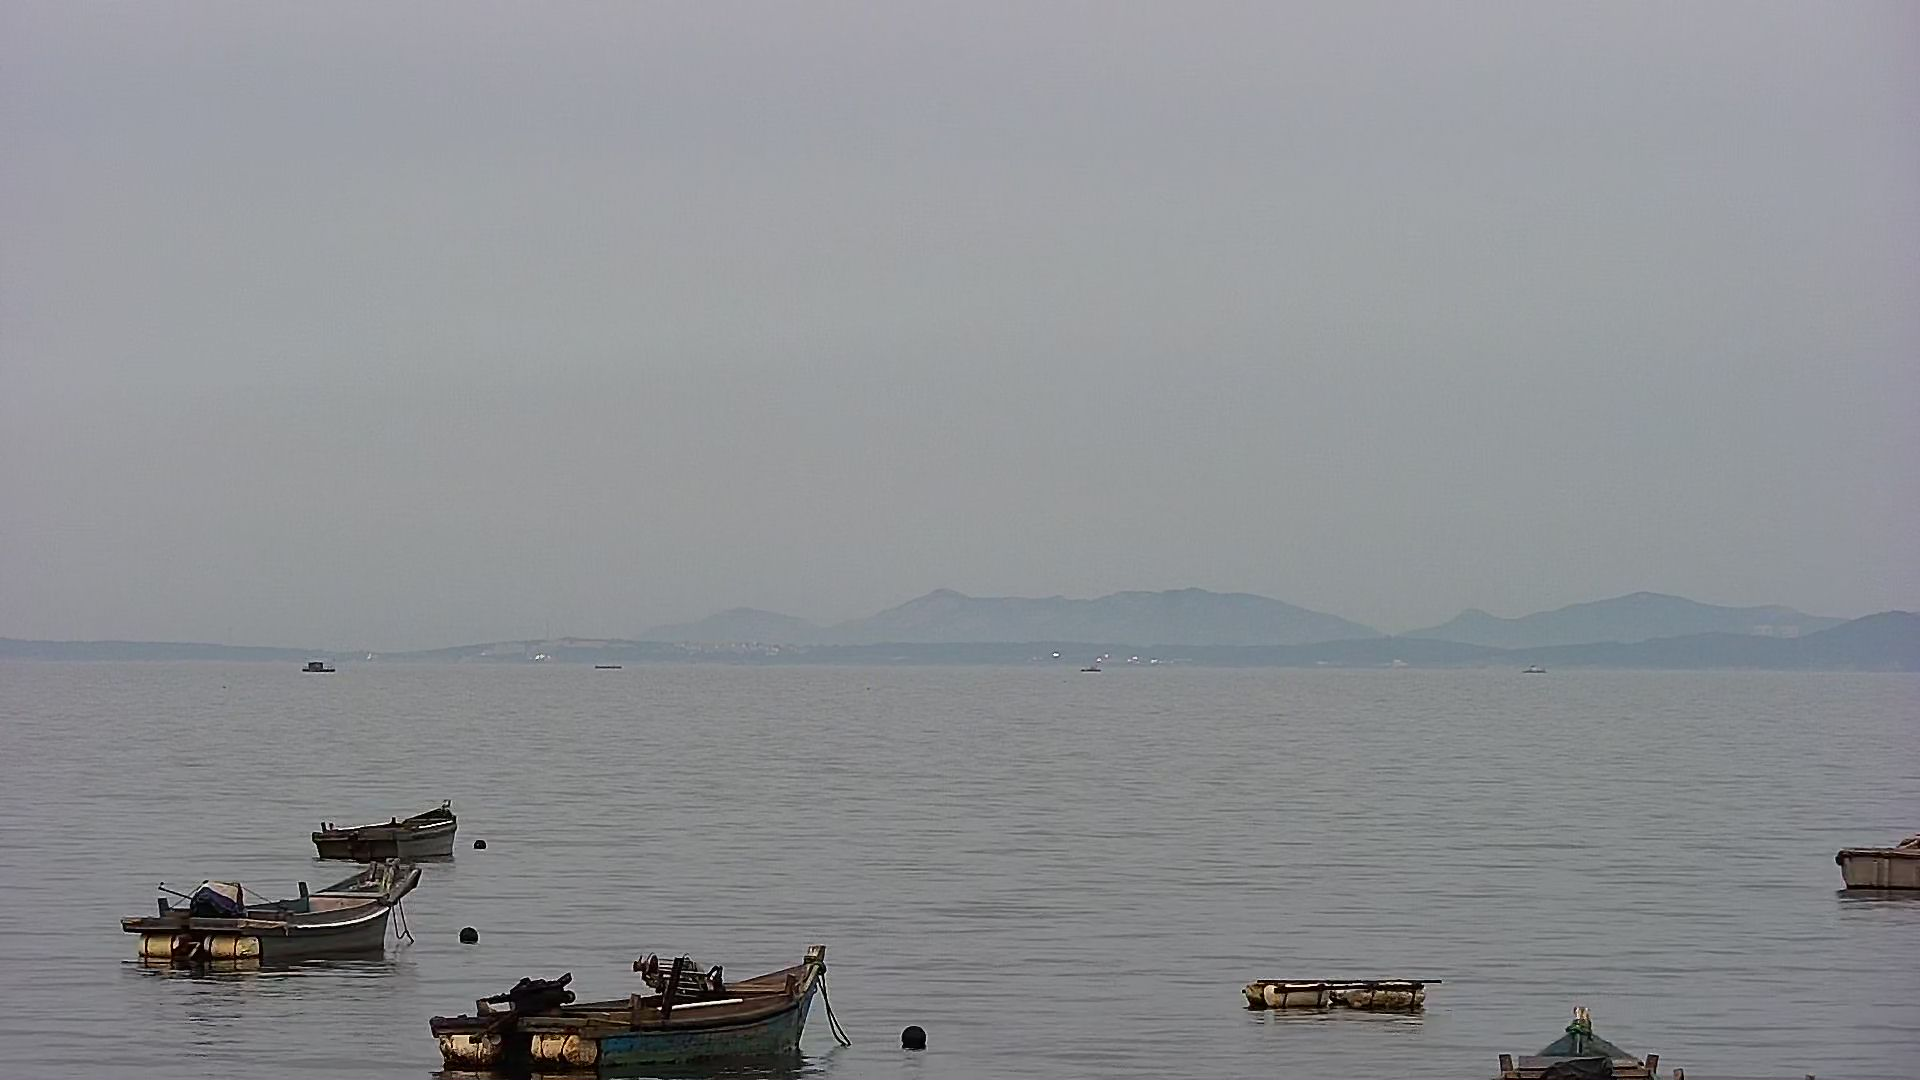ball: (897, 1018, 934, 1062), (459, 918, 480, 949)
boat: (440, 939, 836, 1077), (123, 861, 422, 967), (301, 798, 458, 872)
rubbish: (1238, 978, 1437, 1014)
